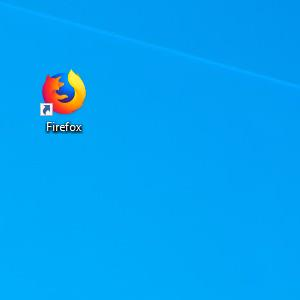firefox: (40, 69, 87, 116)
